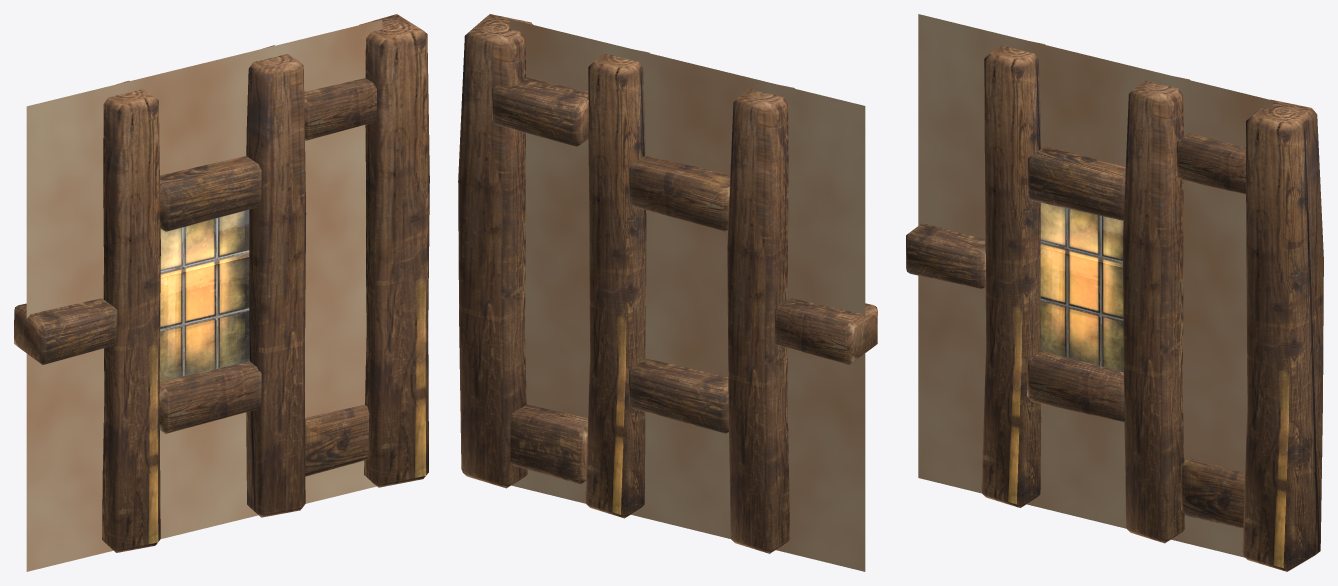
File: 2 Wall wood window.fbx
The picture shows the model from 3 angles, left to right: view 1: azimuth 30°, elevation 25°; view 2: azimuth 150°, elevation 25°; view 3: azimuth 330°, elevation 25°; orthographic projection.
Visible parts, largest first — view 1: 2 Wall wood window; view 2: 2 Wall wood window; view 3: 2 Wall wood window.
Part boxes in pixels (x1,y1,x2,y2): 2 Wall wood window: [14, 14, 429, 571]; 2 Wall wood window: [458, 14, 877, 571]; 2 Wall wood window: [906, 14, 1323, 571].
Bounding box in the file's own units: 2.21 × 2.5 × 0.361.
